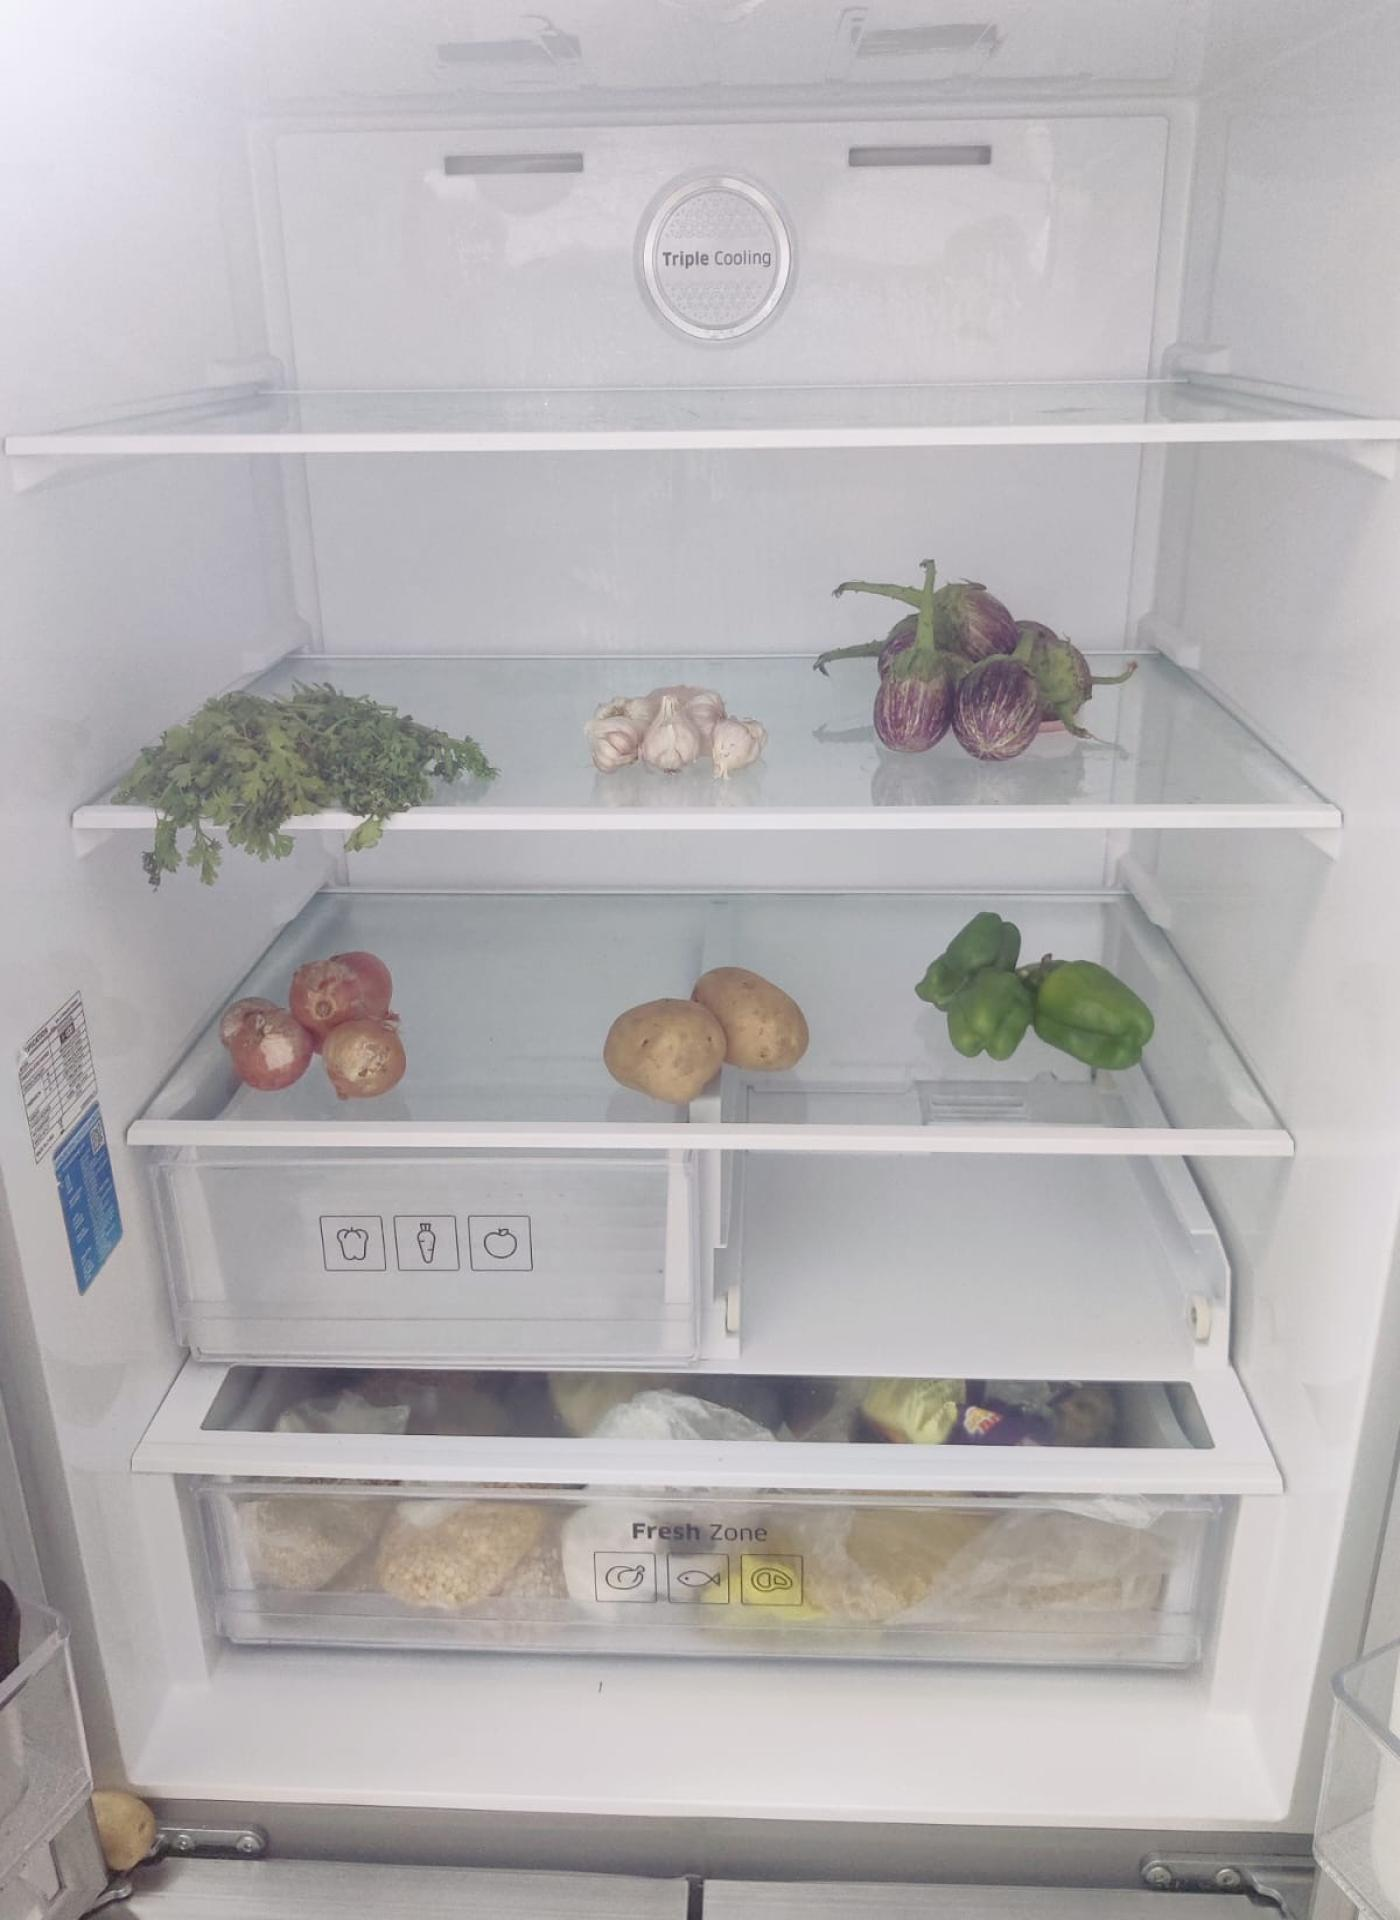brinjal: (841, 565, 1097, 760)
capsicum: (924, 914, 1164, 1072)
coriander: (124, 695, 494, 848)
garlic: (584, 681, 762, 784)
onion: (222, 945, 413, 1093)
potato: (608, 964, 817, 1103)
